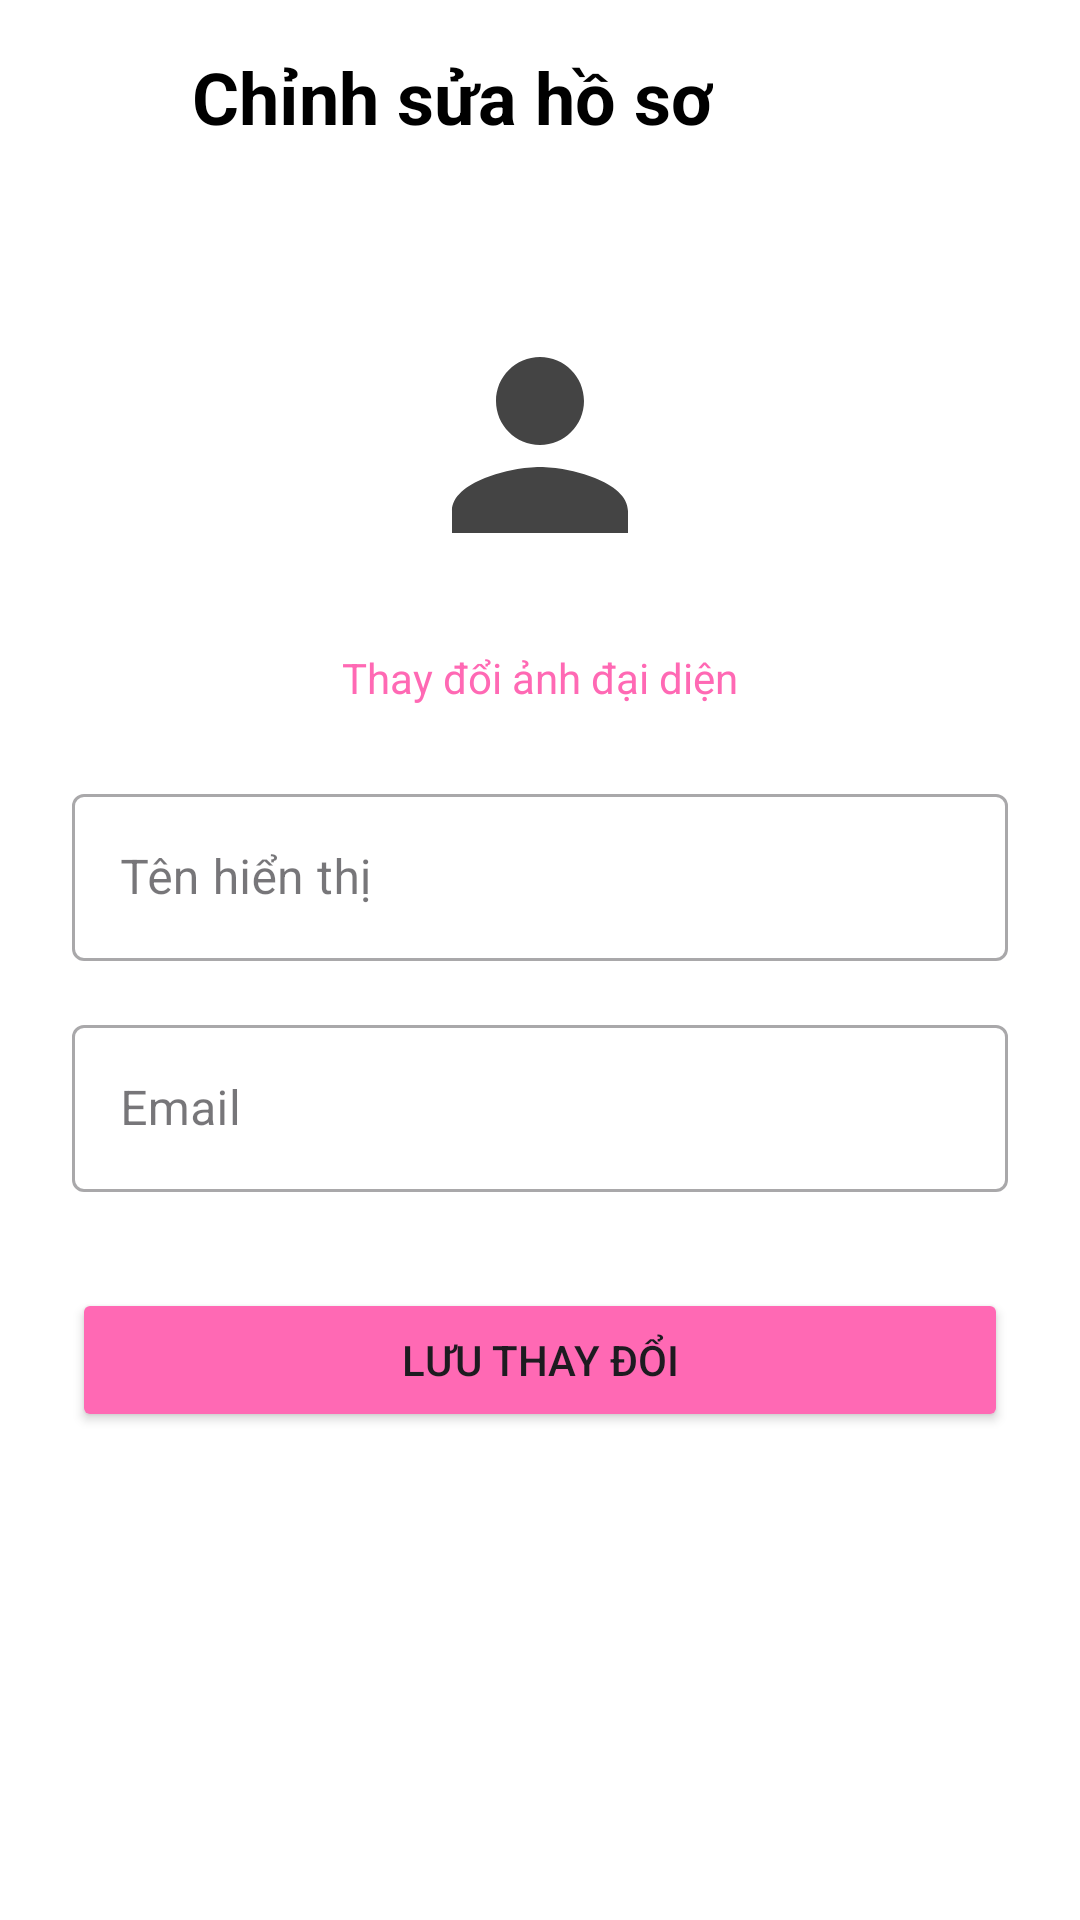

Where to tap for icons on this 1080x1920 app screen, as point (x, y):
person: point (540, 445)
